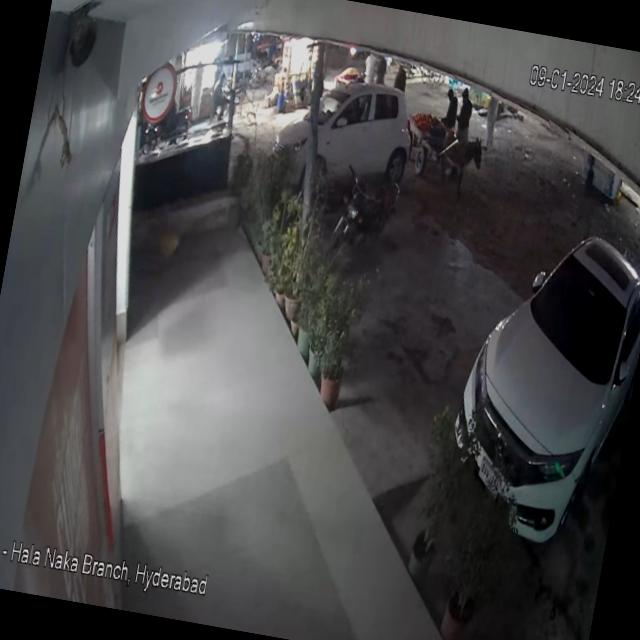Car: (433, 175, 640, 566), (250, 52, 426, 194)
Motorcycle: (326, 154, 406, 268)
